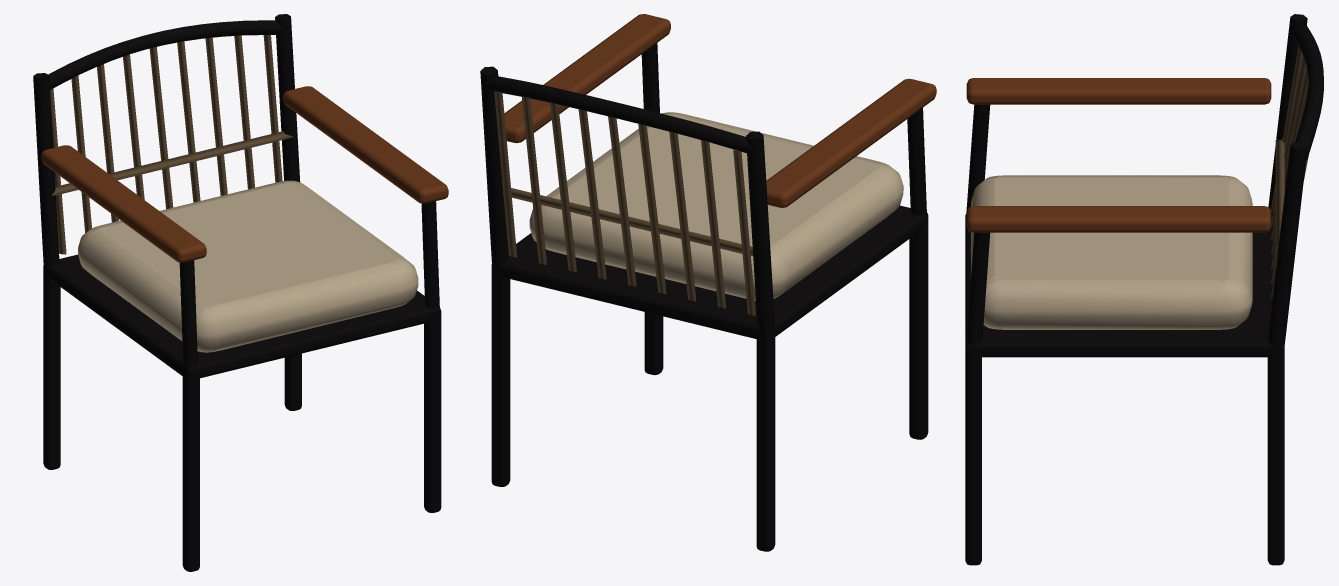
Rendered from woven-dining-chair-lod1.glb.
The picture shows the model from 3 angles, left to right: view 1: azimuth 30°, elevation 25°; view 2: azimuth 150°, elevation 25°; view 3: azimuth 270°, elevation 25°; orthographic projection. The views are drawn at different scales.
Parts seen in each view (by area): view 1: Oatmeal performance fabric, Powder-coated bronze aluminium, Woven taupe rope, Oiled teak; view 2: Powder-coated bronze aluminium, Oatmeal performance fabric, Woven taupe rope, Oiled teak; view 3: Oatmeal performance fabric, Powder-coated bronze aluminium, Oiled teak, Woven taupe rope.
Boxes of the visible parts, left/top/right/bottom form: Oatmeal performance fabric: left=78, top=180, right=418, bottom=352; Powder-coated bronze aluminium: left=33, top=14, right=441, bottom=571; Woven taupe rope: left=50, top=34, right=292, bottom=254; Oiled teak: left=41, top=86, right=448, bottom=262; Powder-coated bronze aluminium: left=480, top=43, right=928, bottom=551; Oatmeal performance fabric: left=529, top=112, right=903, bottom=300; Woven taupe rope: left=494, top=91, right=755, bottom=315; Oiled teak: left=504, top=14, right=936, bottom=207; Oatmeal performance fabric: left=971, top=175, right=1252, bottom=329; Powder-coated bronze aluminium: left=965, top=14, right=1323, bottom=565; Oiled teak: left=966, top=78, right=1271, bottom=232; Woven taupe rope: left=1270, top=45, right=1308, bottom=311.
Size of the model in its own units: 0.5969 by 0.823 by 0.6292.
